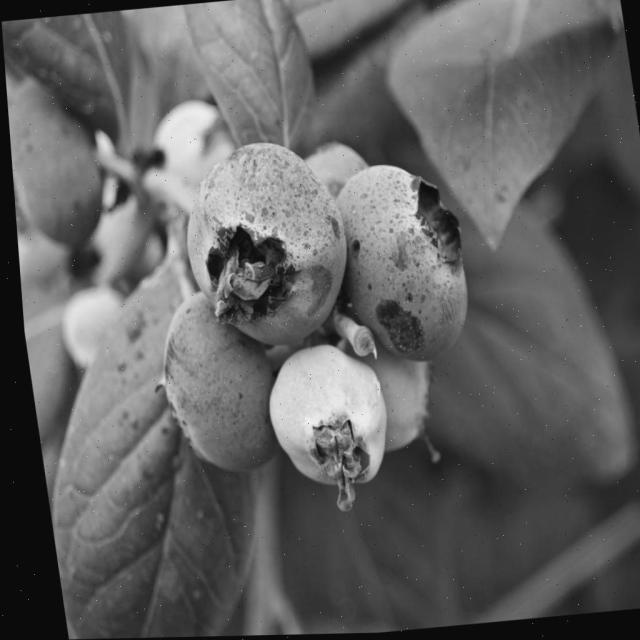RipeBlueBerry: (170, 136, 356, 356), (331, 155, 476, 370), (146, 290, 278, 480), (4, 74, 110, 250)
UnripeBlueBerry: (253, 340, 395, 504)
